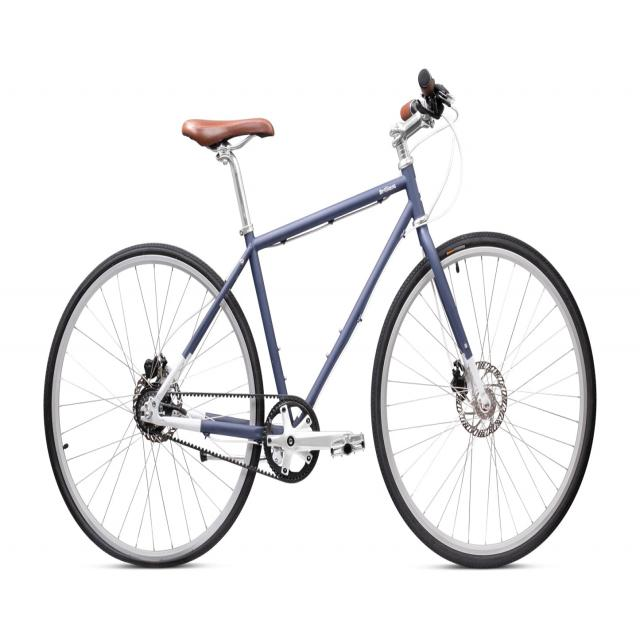bicycle: (30, 69, 601, 596)
